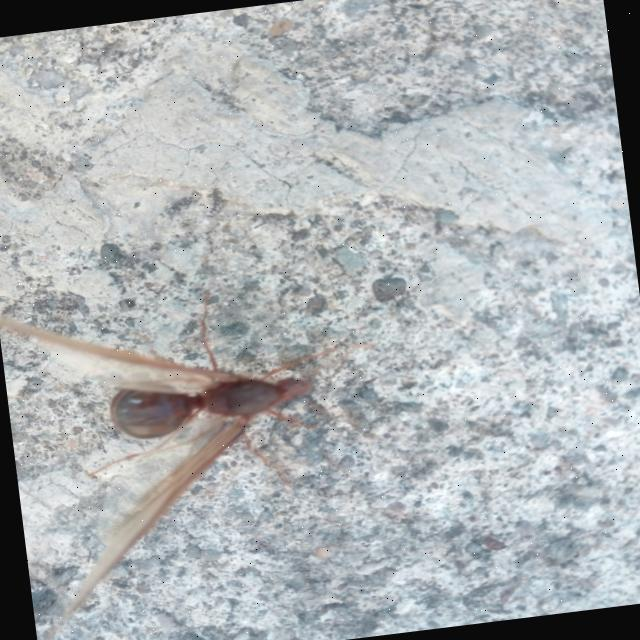Alive-Male-Alate: (0, 250, 410, 640)
